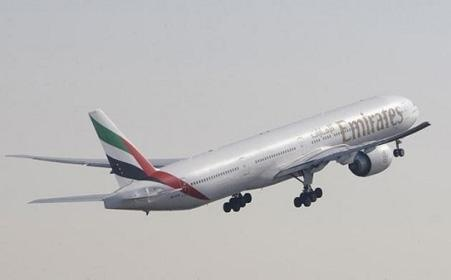airplane: (3, 86, 433, 218)
